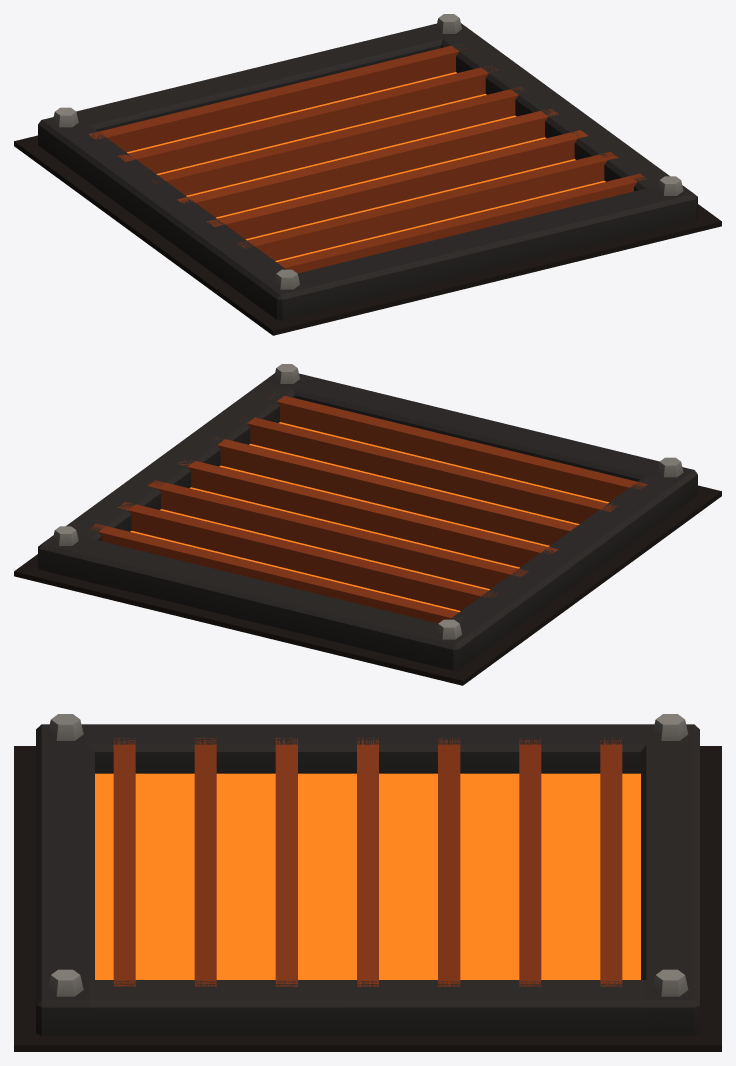
Rendered from fire_jet_vent.glb.
The picture shows the model from 3 angles, top to bottom: view 1: azimuth 30°, elevation 25°; view 2: azimuth 150°, elevation 25°; view 3: azimuth 270°, elevation 25°; orthographic projection. The views are drawn at different scales.
Parts seen in each view (by area): view 1: vent_grate, vent_glow; view 2: vent_grate, vent_glow; view 3: vent_grate, vent_glow.
Boxes of the visible parts, bbox=[...] form: vent_grate: bbox=[14, 14, 721, 335]; vent_glow: bbox=[127, 72, 605, 261]; vent_grate: bbox=[14, 364, 721, 685]; vent_glow: bbox=[130, 422, 608, 611]; vent_grate: bbox=[14, 714, 721, 1051]; vent_glow: bbox=[95, 773, 640, 979].
Size of the model in its own units: 1.92 by 0.165 by 1.92.
